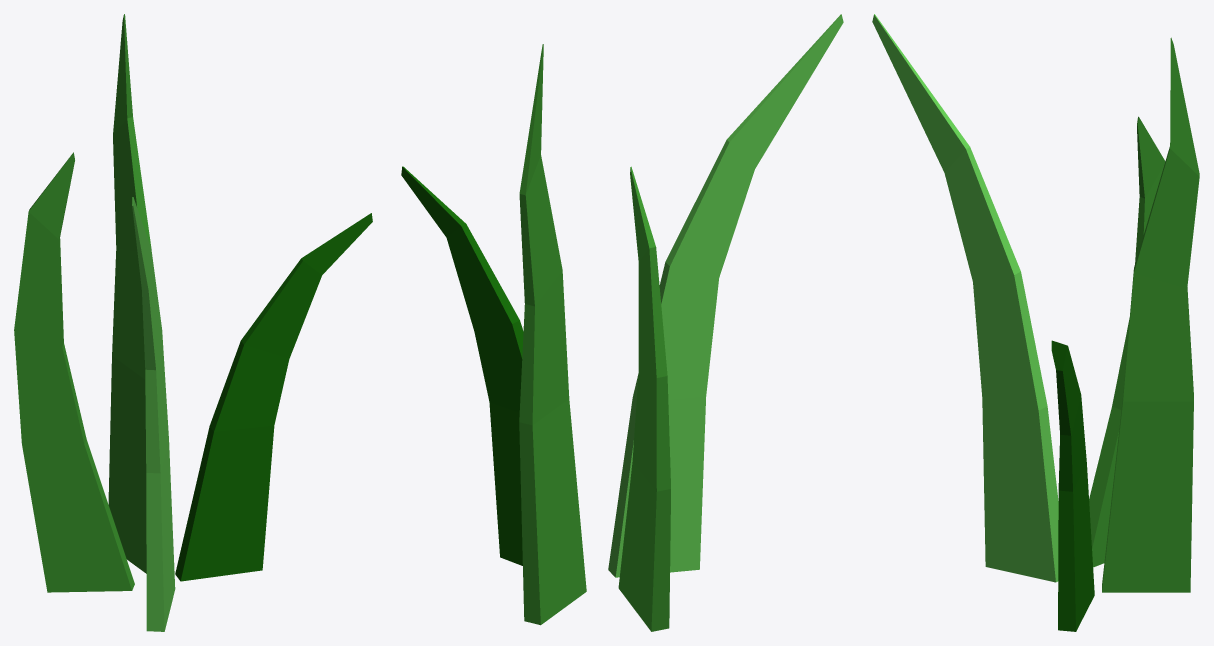
Rendered from Grass(1).fbx.
3 views of the same model, side by side, from view 1: azimuth 30°, elevation 25°; view 2: azimuth 150°, elevation 25°; view 3: azimuth 270°, elevation 25° (orthographic). The views are drawn at different scales.
Parts seen in each view (by area): view 1: Grass 1; view 2: Grass 1; view 3: Grass 1.
Boxes of the visible parts, box(x1,y1,x2,y2) form: Grass 1: box(14, 14, 372, 631); Grass 1: box(401, 14, 843, 631); Grass 1: box(872, 14, 1199, 631).
Size of the model in its own units: 0.3921 by 0.6176 by 0.3298.
